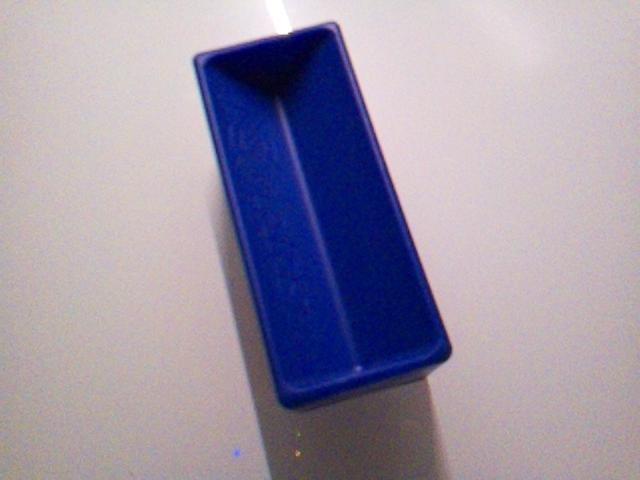blue: (191, 20, 454, 410)
